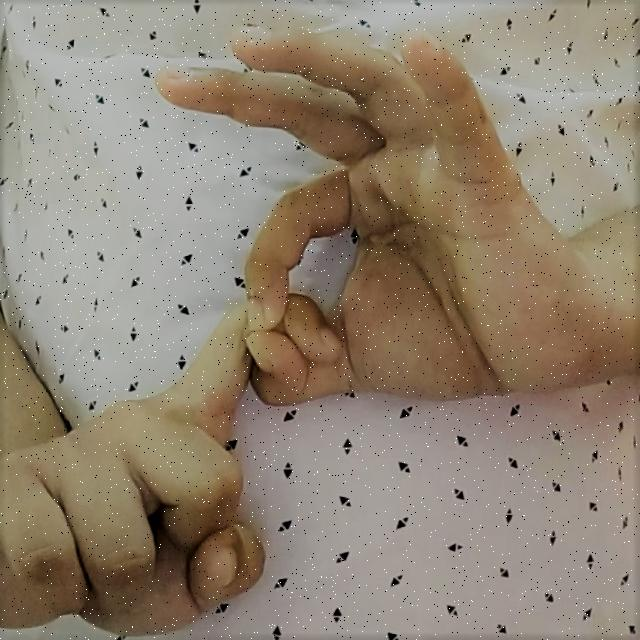Q: (16, 18, 576, 636)
